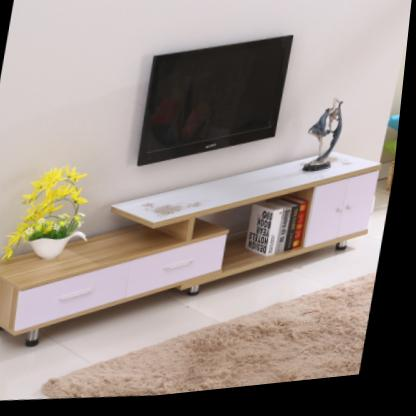TV stand: (0, 128, 394, 384)
